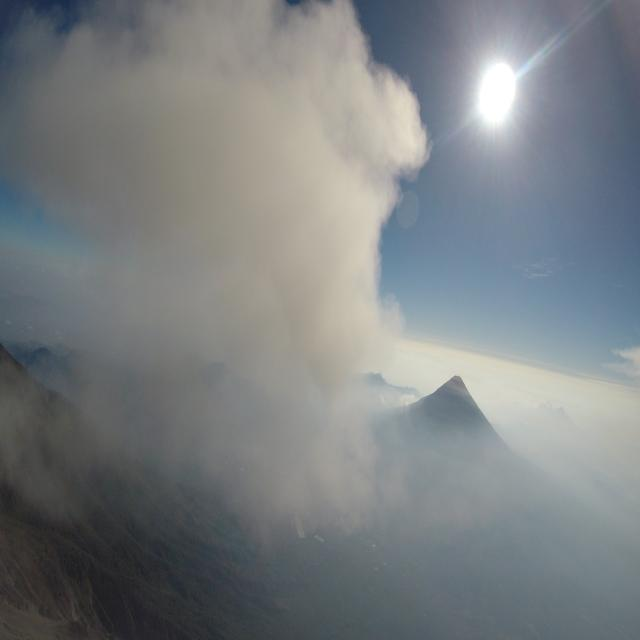Plume: (0, 0, 435, 538)
